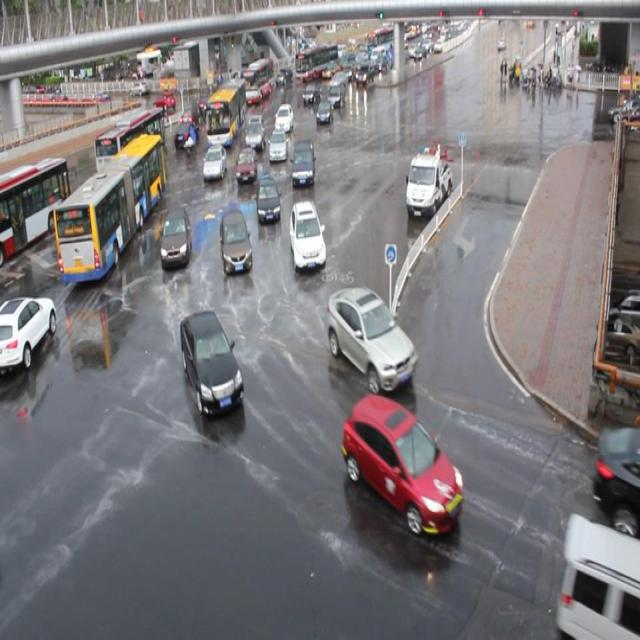bus: (404, 149, 452, 216)
car: (343, 393, 464, 533), (327, 285, 418, 393), (180, 308, 244, 416), (1, 295, 56, 372), (289, 201, 326, 270), (160, 204, 193, 268), (219, 208, 252, 272), (256, 176, 282, 222), (291, 139, 315, 185), (202, 145, 226, 179), (245, 115, 266, 149), (236, 147, 257, 180), (268, 128, 289, 160), (174, 121, 200, 143), (274, 102, 293, 131), (153, 89, 176, 110), (315, 98, 333, 124), (328, 84, 346, 106), (180, 108, 200, 127), (302, 82, 321, 102), (197, 94, 213, 114)
truck: (557, 513, 640, 640)
van: (52, 134, 166, 280), (1, 156, 72, 261), (94, 106, 168, 182), (205, 77, 246, 147), (240, 58, 275, 102)
